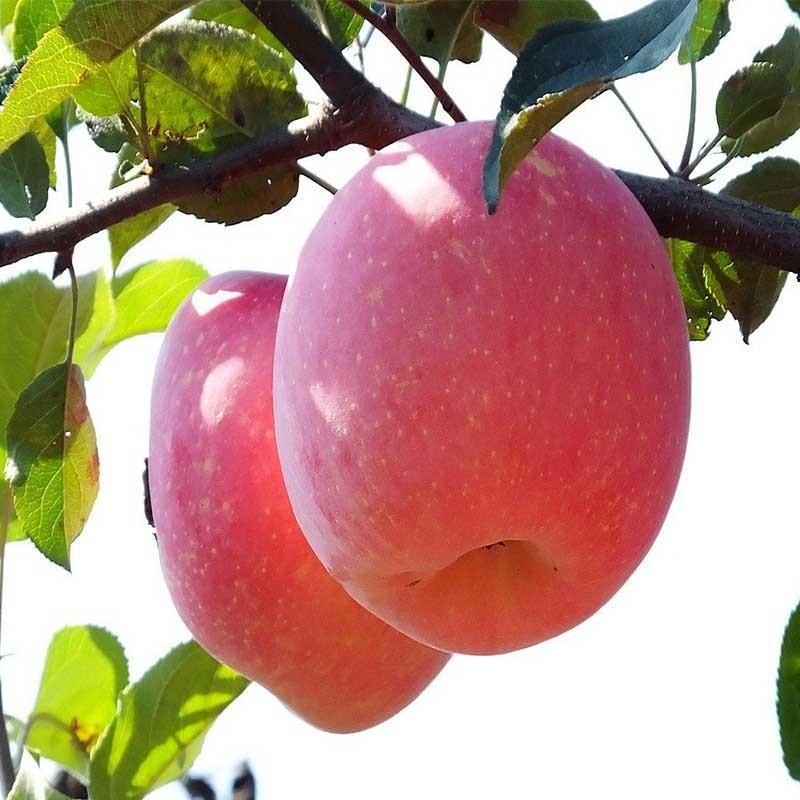apple: (170, 118, 692, 709), (142, 266, 463, 728)
